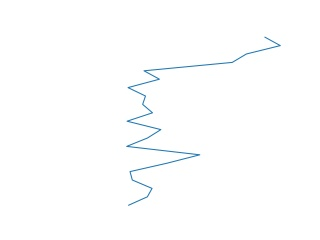crevasseRiverChannelBar: (119, 35, 283, 210)
